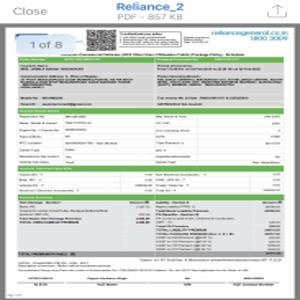table: (18, 193, 285, 257), (15, 108, 285, 164), (16, 56, 285, 109), (17, 165, 284, 196)
text: (211, 28, 290, 44)
